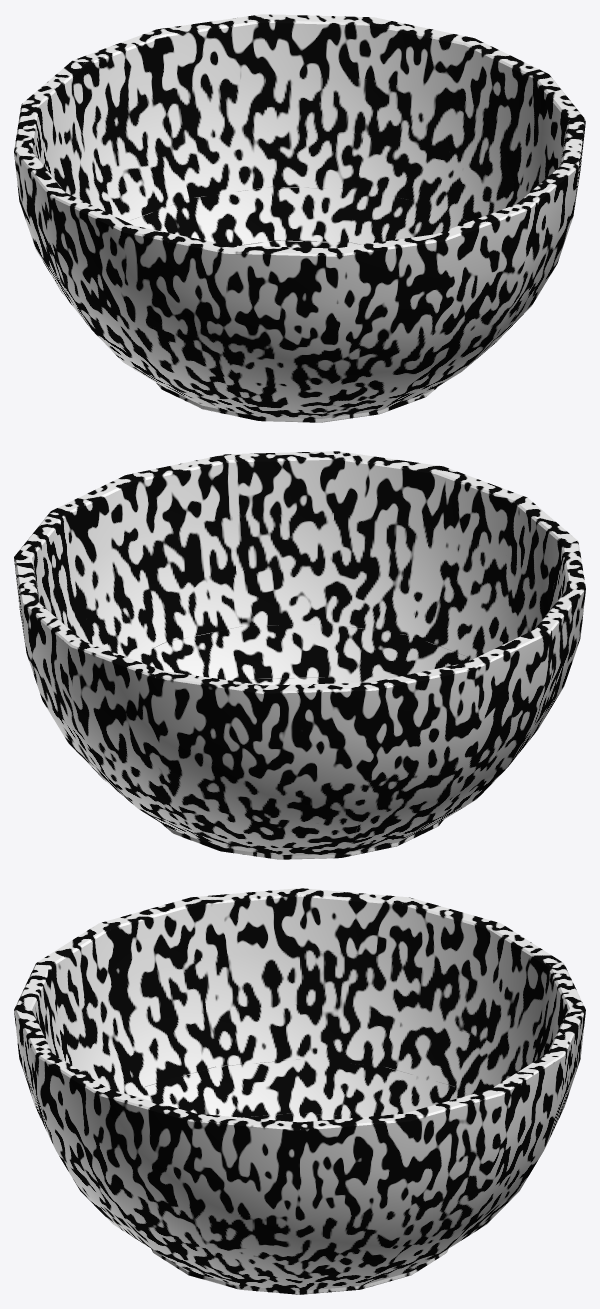
File: FlatBowl.fbx
The picture shows the model from 3 angles, top to bottom: view 1: azimuth 30°, elevation 25°; view 2: azimuth 150°, elevation 25°; view 3: azimuth 270°, elevation 25°; orthographic projection.
Visible parts, largest first — view 1: Sphere; view 2: Sphere; view 3: Sphere.
Part boxes in pixels (x1,y1,x2,y2): Sphere: (14,14,585,422); Sphere: (14,451,585,859); Sphere: (14,888,585,1294).
Bounding box in the file's own units: 200 × 84.77 × 200.
1 material, 1 textured.
